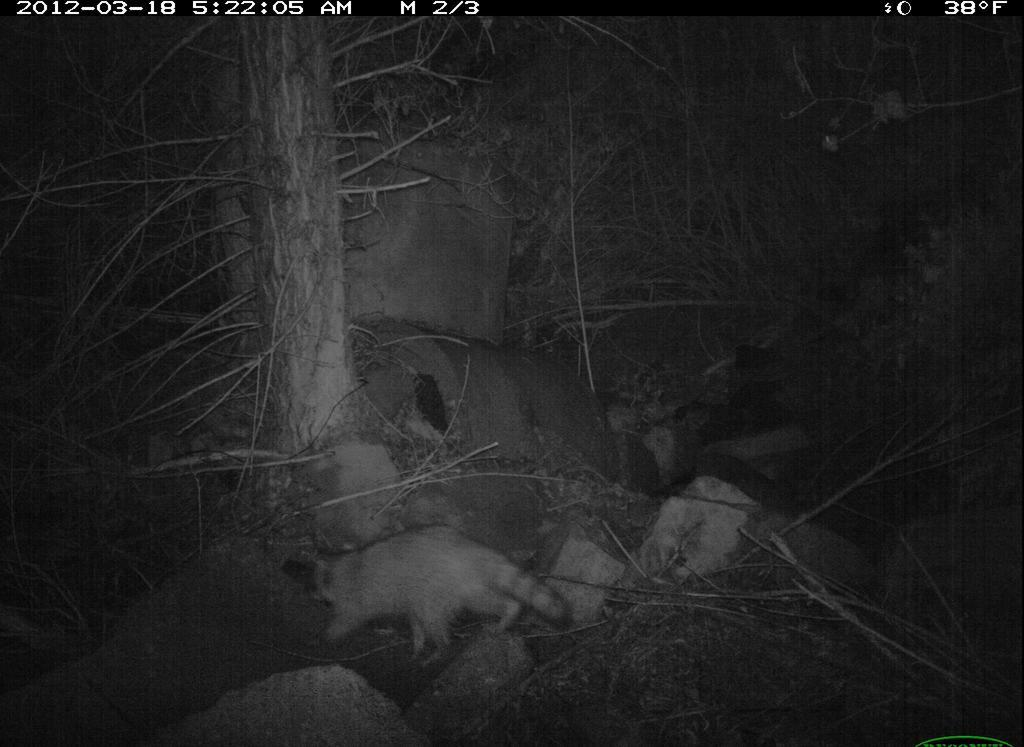raccoon: (300, 523, 564, 662)
